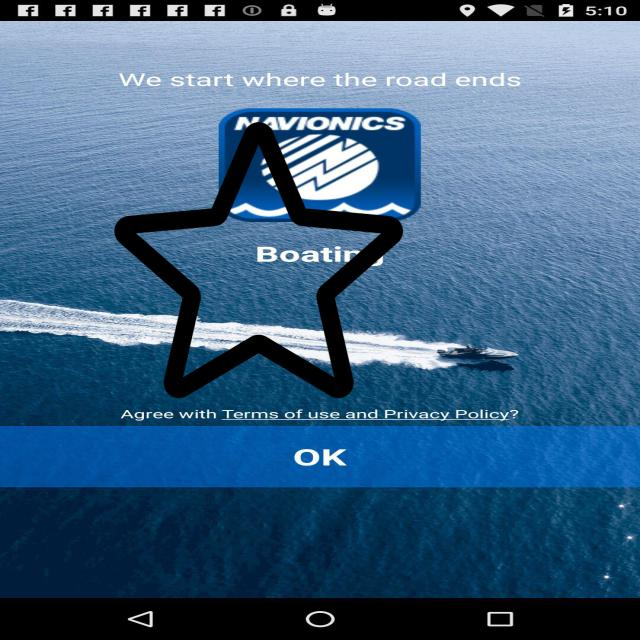forced continuity: (114, 116, 403, 404)
